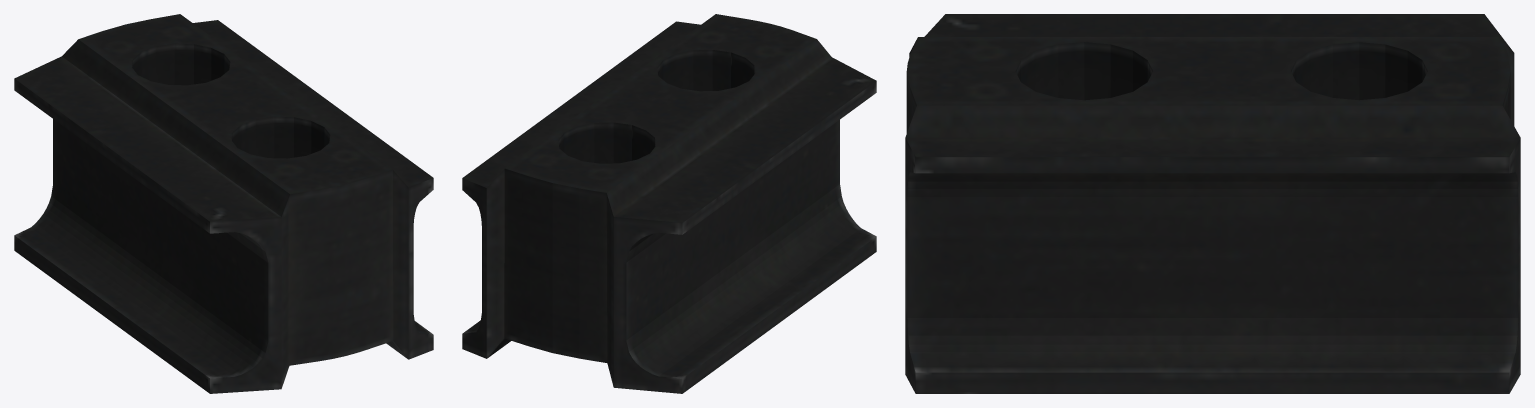
3 renders of one model, left to right at view 1: azimuth 30°, elevation 25°; view 2: azimuth 150°, elevation 25°; view 3: azimuth 270°, elevation 25°, orthographic. The views are drawn at different scales.
Parts seen in each view (by area): view 1: TW_58d39b0386f77443380bf13c_PZ_Import; view 2: TW_58d39b0386f77443380bf13c_PZ_Import; view 3: TW_58d39b0386f77443380bf13c_PZ_Import.
Boxes of the visible parts, <box> form: TW_58d39b0386f77443380bf13c_PZ_Import: <box>14,14,433,393</box>; TW_58d39b0386f77443380bf13c_PZ_Import: <box>462,14,876,393</box>; TW_58d39b0386f77443380bf13c_PZ_Import: <box>905,14,1520,393</box>.
Size of the model in its own units: 0.0155 by 0.0282 by 0.0132.
Materials: 1 (1 with a texture image).
